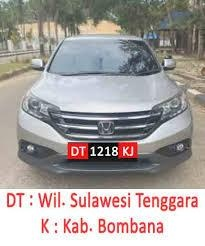plate: (69, 141, 138, 159)
